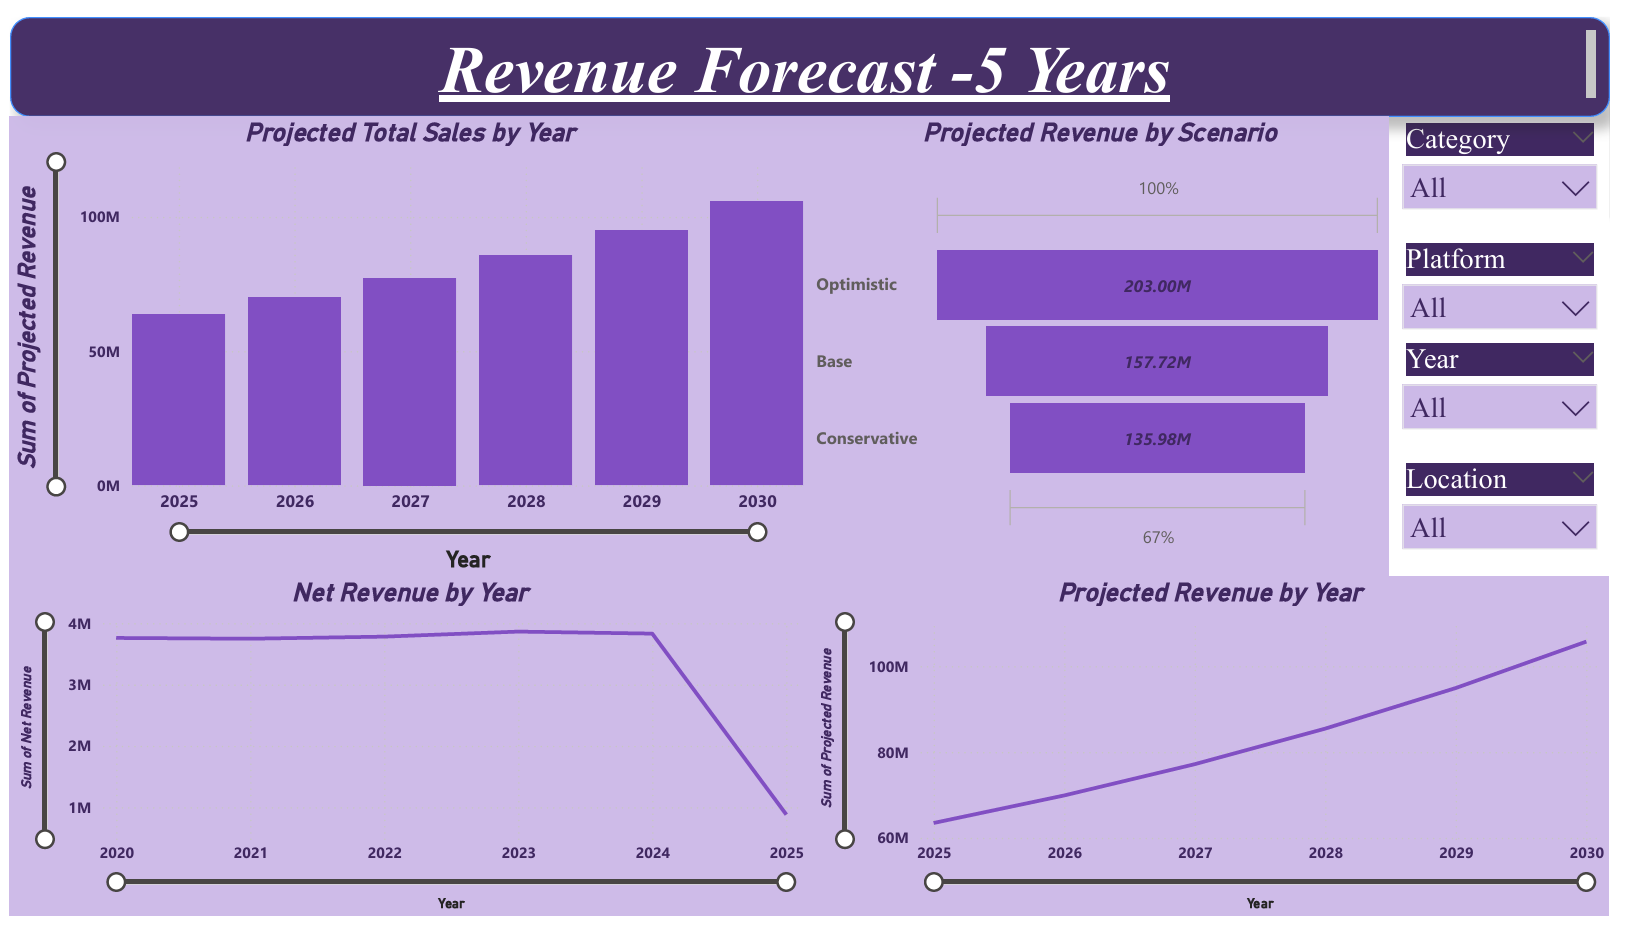

What the dashboard file says about the page in this screenshot:
{"tool":"powerbi","page":{"name":"Revenue Forecast","canvas":[1280,720],"ordinal":1},"visuals":[{"type":"slicer","fields":{"Values":["Sales_Fact.Category"]},"box":[1104,80,176,112],"z":0},{"type":"textbox","box":[0,0,1280,80],"z":1},{"type":"slicer","fields":{"Values":["Sales_Fact.Platform"]},"box":[1104,176,176,96],"z":2},{"type":"clusteredColumnChart","title":"Projected Total Sales by Year","fields":{"Category":["Revenue_Forecast.Year"],"Y":["Sum(Revenue_Forecast.Projected Revenue)"]},"box":[0,80,640,368],"z":3},{"type":"lineChart","title":"Projected Revenue by Year","fields":{"Category":["Revenue_Forecast.Year"],"Y":["Sum(Revenue_Forecast.Projected Revenue)"]},"box":[640,448,640,272],"z":4},{"type":"lineChart","title":"Net Revenue by Year","fields":{"Category":["Date_Table.Year"],"Y":["Sum(Sales_Fact.Net Revenue)"]},"box":[0,448,640,272],"z":5},{"type":"slicer","fields":{"Values":["Revenue_Forecast.Year"]},"box":[1104,256,176,96],"z":6},{"type":"slicer","fields":{"Values":["Sales_Fact.Location"]},"box":[1104,352,176,96],"z":7},{"type":"funnel","title":"Projected Revenue by Scenario","fields":{"Category":["Revenue_Forecast.Scenario"],"Y":["Sum(Revenue_Forecast.Projected Revenue)"]},"box":[640,80,464,368],"z":8}]}

Visuals, with their boxes in screenshot pixels (x1, y1, x2, y2), scaled from the page's 1280x720 canvas onto the 1625x940 screenshot:
slicer - Sales_Fact.Category: (1402,104,1624,251)
textbox: (0,0,1624,104)
slicer - Sales_Fact.Platform: (1402,230,1624,355)
"Projected Total Sales by Year" clusteredColumnChart: (0,104,812,585)
"Projected Revenue by Year" lineChart: (812,585,1624,939)
"Net Revenue by Year" lineChart: (0,585,812,939)
slicer - Revenue_Forecast.Year: (1402,334,1624,460)
slicer - Sales_Fact.Location: (1402,460,1624,585)
"Projected Revenue by Scenario" funnel: (812,104,1402,585)
